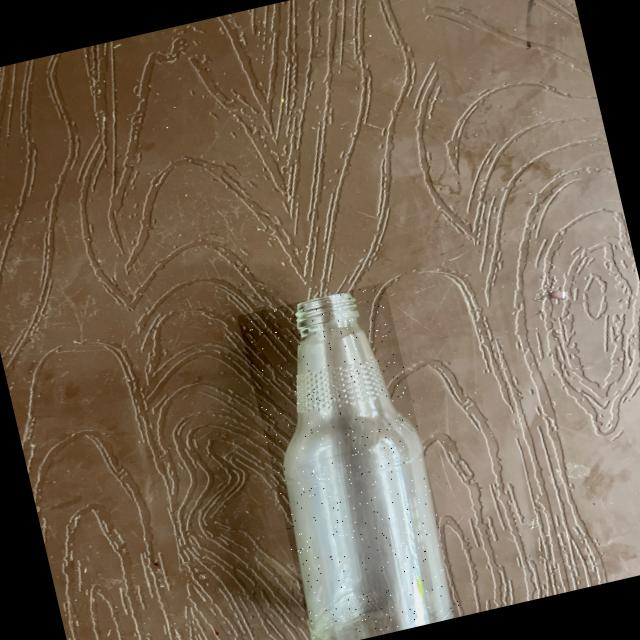Glass_Bottle: (284, 293, 453, 639)
